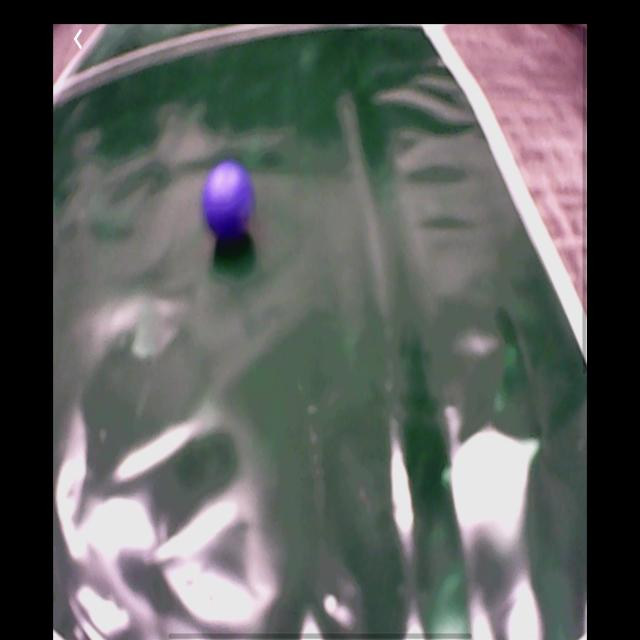ball: (204, 163, 256, 240)
